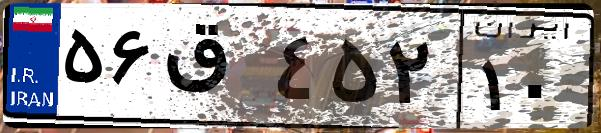0: (525, 38, 570, 115)
1: (475, 38, 525, 113)
2: (385, 28, 445, 110)
4: (270, 28, 330, 110)
5: (330, 28, 385, 110), (57, 26, 110, 100)
6: (110, 28, 158, 98)
ق: (158, 20, 270, 120)
